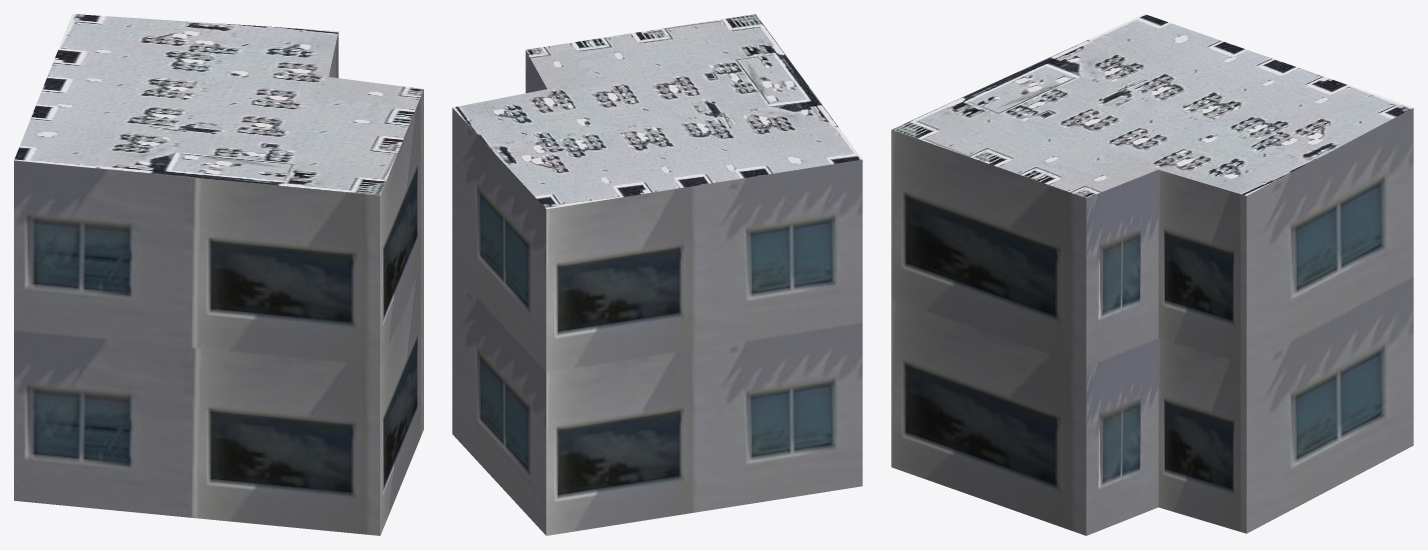
Rendered from ResTex__1329.fbx.
3 views of the same model, side by side, from view 1: azimuth 30°, elevation 25°; view 2: azimuth 150°, elevation 25°; view 3: azimuth 270°, elevation 25° (orthographic). The views are drawn at different scales.
Visible parts, largest first — view 1: CityEngineMaterial_10_m, CityEngineMaterial_8_m; view 2: CityEngineMaterial_10_m, CityEngineMaterial_8_m; view 3: CityEngineMaterial_10_m, CityEngineMaterial_8_m.
Part boxes in pixels (x1,y1,x2,y2): CityEngineMaterial_10_m: (14,32,423,535); CityEngineMaterial_8_m: (14,14,423,195); CityEngineMaterial_10_m: (452,50,862,535); CityEngineMaterial_8_m: (453,14,862,209); CityEngineMaterial_10_m: (891,108,1413,535); CityEngineMaterial_8_m: (892,14,1412,198).
Bounding box in the file's own units: 7.02 × 6 × 8.41.
Materials: 2 (2 with a texture image).
